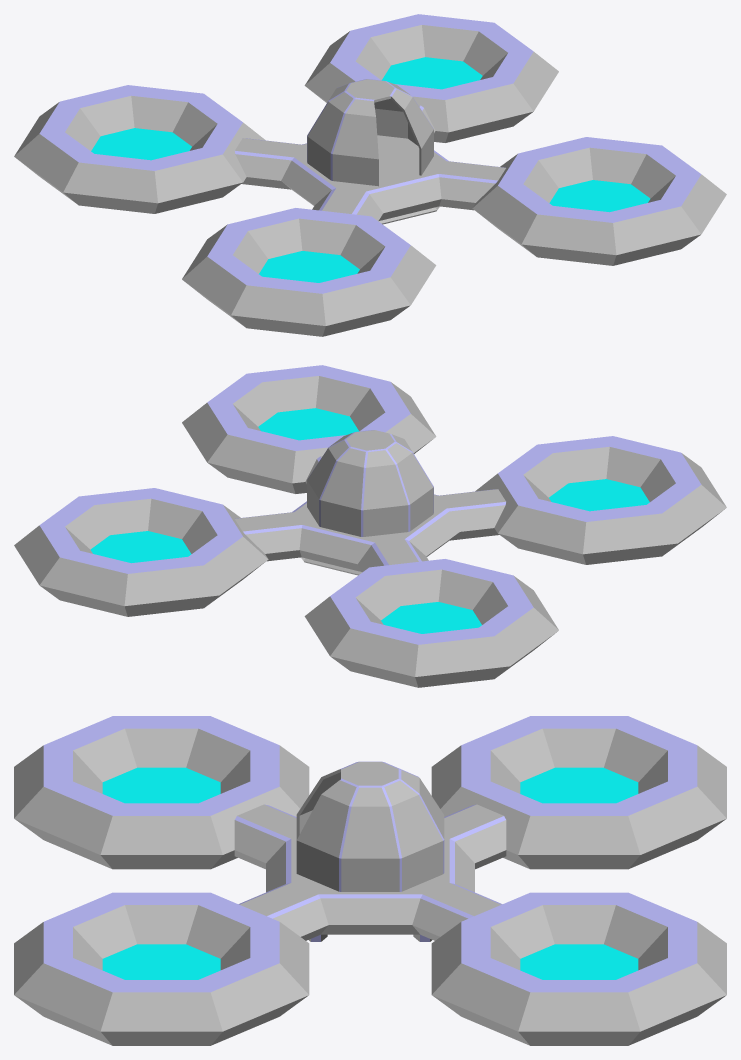
Rendered from Drone_base_V2.fbx.
3 views of the same model, one above another, from view 1: azimuth 30°, elevation 25°; view 2: azimuth 150°, elevation 25°; view 3: azimuth 270°, elevation 25° (orthographic). The views are drawn at different scales.
Visible parts, largest first — view 1: Drone_V2, Chamfer3.001; view 2: Drone_V2, Chamfer3.001; view 3: Drone_V2, Chamfer3.001.
Boxes of the visible parts, x1,y1,x2,y2 form: Drone_V2: (14,14,726,336); Chamfer3.001: (307,79,433,186); Drone_V2: (14,365,726,687); Chamfer3.001: (307,430,433,536); Drone_V2: (14,716,726,1045); Chamfer3.001: (296,761,444,891).
Size of the model in its own units: 241 by 53.35 by 241.
